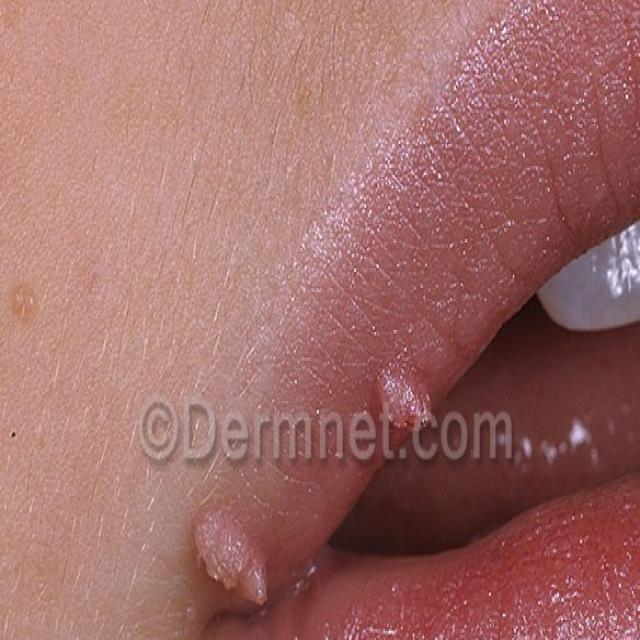Warts: (181, 491, 277, 636), (376, 365, 437, 453)
